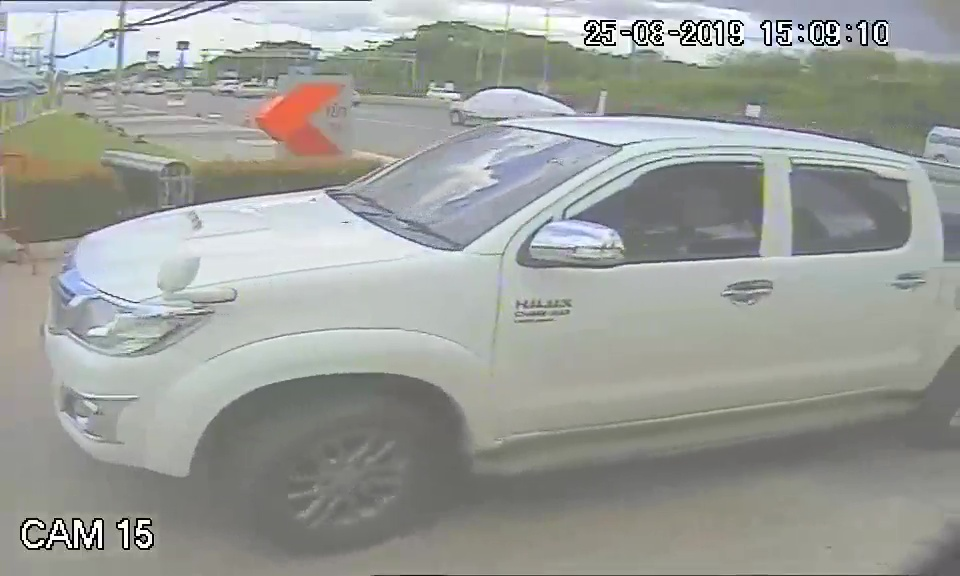pickup: (39, 111, 942, 495)
